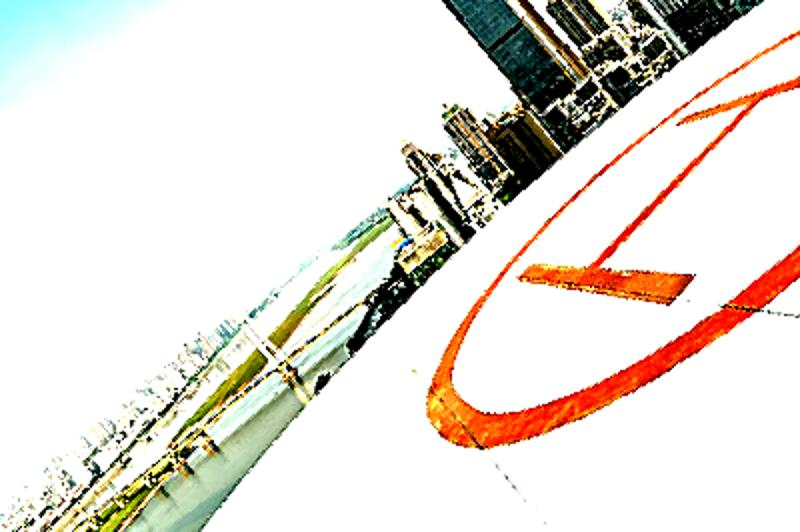Apron: (419, 20, 800, 520)
